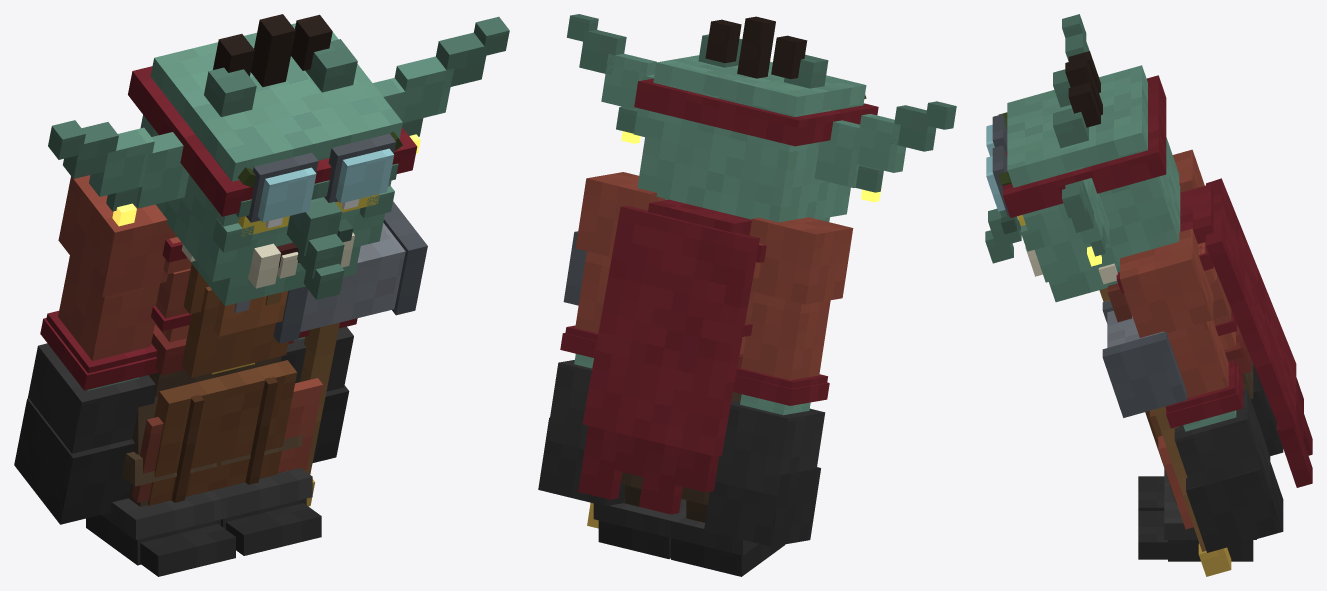
File: goblin_forgeron.glb
3 views of the same model, side by side, from view 1: azimuth 30°, elevation 25°; view 2: azimuth 150°, elevation 25°; view 3: azimuth 270°, elevation 25° (orthographic). The views are drawn at different scales.
Parts seen in each view (by area): view 1: Head, ArmR, Torso, HandL, LegR, LegL, ArmL; view 2: Head, Torso, ArmR, ArmL, LegR, LegL, HandL; view 3: Head, ArmL, Torso, HandL, LegL, ArmR, LegR.
Part boxes in pixels (x1,y1,x2,y2): Head: (48, 14, 509, 305); ArmR: (14, 175, 176, 524); Torso: (132, 237, 322, 505); HandL: (273, 201, 427, 506); LegR: (86, 396, 235, 576); LegL: (211, 435, 321, 555); ArmL: (281, 318, 357, 462); Head: (566, 14, 956, 222); Torso: (578, 199, 766, 514); ArmR: (704, 217, 853, 546); ArmL: (538, 172, 665, 506); LegR: (665, 487, 785, 576); LegL: (593, 472, 686, 559); HandL: (563, 231, 598, 528); Head: (985, 14, 1180, 302); ArmL: (1120, 228, 1283, 552); Torso: (1098, 178, 1312, 529); HandL: (1102, 300, 1231, 576); LegL: (1138, 486, 1256, 561); ArmR: (1172, 149, 1283, 455); LegR: (1138, 469, 1170, 510).
Size of the model in its own units: 1.09 by 1.33 by 0.8393.
45 materials, 45 textured.
